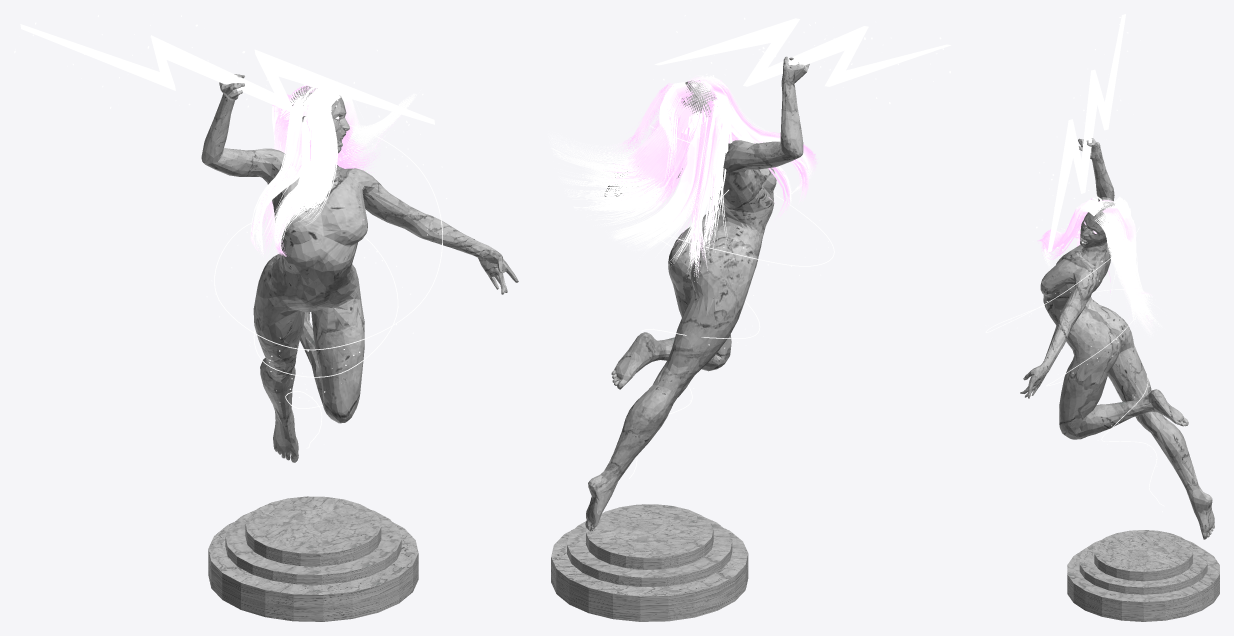
3 views of the same model, side by side, from view 1: azimuth 30°, elevation 25°; view 2: azimuth 150°, elevation 25°; view 3: azimuth 270°, elevation 25° (orthographic). The views are drawn at different scales.
Visible parts, largest first — view 1: model-Mat.5, Hair (×5), Cylinder, Cylinder.2, Extrude, Cylinder.1, Sweep; view 2: Hair (×7), model-Mat.5, Cylinder, Cylinder.2, Extrude, Cylinder.1, Sweep; view 3: model-Mat.5, Hair (×5), Cylinder, Cylinder.2, Extrude, Cylinder.1, Sweep.
Part boxes in pixels (left/top/right/bottom): model-Mat.5: left=201, top=74, right=518, bottom=462; Hair (×5): left=250, top=81, right=420, bottom=258; Cylinder: left=208, top=522, right=418, bottom=621; Cylinder.2: left=245, top=496, right=381, bottom=566; Extrude: left=20, top=24, right=434, bottom=124; Cylinder.1: left=225, top=510, right=401, bottom=584; Sweep: left=214, top=124, right=442, bottom=448; Hair (×7): left=548, top=75, right=817, bottom=282; model-Mat.5: left=585, top=56, right=809, bottom=531; Cylinder: left=551, top=528, right=748, bottom=621; Cylinder.2: left=586, top=504, right=713, bottom=569; Extrude: left=654, top=18, right=950, bottom=86; Cylinder.1: left=567, top=516, right=732, bottom=586; Sweep: left=629, top=125, right=834, bottom=478; model-Mat.5: left=1020, top=138, right=1214, bottom=539; Hair (×5): left=1037, top=196, right=1161, bottom=336; Cylinder: left=1067, top=548, right=1219, bottom=621; Cylinder.2: left=1094, top=530, right=1192, bottom=581; Extrude: left=1047, top=14, right=1125, bottom=252; Cylinder.1: left=1079, top=540, right=1207, bottom=594; Sweep: left=985, top=227, right=1164, bottom=506.
Size of the model in its own units: 677 by 946 by 439.
3 materials, 1 textured.
